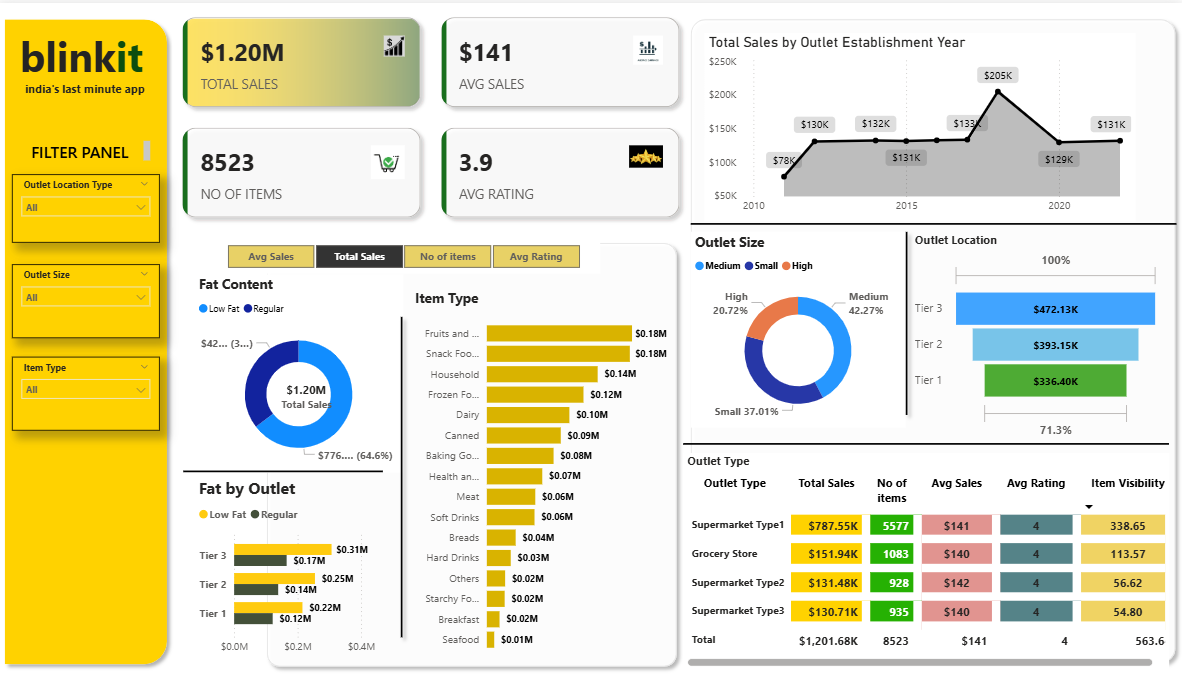

The page's visual inventory and layout, read from the dashboard file:
{"tool":"powerbi","page":{"name":"Page 1","canvas":[1400,800],"ordinal":0},"visuals":[{"type":"shape","box":[0,10.3,209.5,779.1],"z":0},{"type":"textbox","box":[22.5,25.5,163.6,81],"z":1000},{"type":"textbox","box":[22.5,87.1,163.6,30],"z":2000},{"type":"cardVisual","fields":{"Data":["BlinkIT Grocery Data.Total Sales","BlinkIT Grocery Data.Avg Sales","BlinkIT Grocery Data.No of items","BlinkIT Grocery Data.Avg Rating"]},"box":[202.6,0,621.4,270.2],"z":3000},{"type":"shape","box":[309.2,274.7,501.3,517.8],"z":4000},{"type":"donutChart","title":"Fat Content","fields":{"Y":["BlinkIT Grocery Data.Total Sales"],"Category":["BlinkIT Grocery Data.Item Fat Content"]},"box":[232.6,319.7,246.1,234.1],"z":5000},{"type":"slicer","fields":{"Values":["Metrics.Metrics"]},"box":[246.1,279.2,465.3,40.5],"z":6000},{"type":"cardVisual","fields":{"Data":["BlinkIT Grocery Data.Total Sales"]},"box":[309.2,430.7,111.1,61.5],"z":7000},{"type":"clusteredBarChart","title":"Fat by Outlet","fields":{"Y":["BlinkIT Grocery Data.Total Sales"],"Category":["BlinkIT Grocery Data.Outlet Location Type"],"Series":["BlinkIT Grocery Data.Item Fat Content"]},"box":[233.1,559.2,227.2,218.4],"z":8000},{"type":"shape","box":[219.1,534.3,235.6,37.5],"z":9000},{"type":"shape","box":[460.8,361.7,34.5,396.2],"z":10000},{"type":"barChart","title":"Item Type","fields":{"Y":["BlinkIT Grocery Data.Total Sales"],"Category":["BlinkIT Grocery Data.Item Type"]},"box":[487.8,336.2,307.7,439.8],"z":11000},{"type":"shape","box":[810.5,10.5,589.8,777.4],"z":12000},{"type":"lineChart","fields":{"Y":["BlinkIT Grocery Data.Total Sales"],"Category":["BlinkIT Grocery Data.Outlet Establishment Year"]},"box":[834.5,36,508.8,222.1],"z":13000},{"type":"shape","box":[819.5,241.6,573.3,37.5],"z":14000},{"type":"donutChart","title":"Outlet Size","fields":{"Y":["BlinkIT Grocery Data.Total Sales"],"Category":["BlinkIT Grocery Data.Outlet Size"]},"box":[819.5,270.2,253.6,231.1],"z":15000},{"type":"shape","box":[1058.1,261.2,31.5,234.1],"z":16000},{"type":"funnel","title":"Outlet Location ","fields":{"Y":["BlinkIT Grocery Data.Total Sales"],"Category":["BlinkIT Grocery Data.Outlet Location Type"]},"box":[1079.1,270.2,298.7,249.1],"z":17000},{"type":"shape","box":[810.5,501.3,573.3,37.5],"z":18000},{"type":"pivotTable","title":"Outlet Type","fields":{"Rows":["BlinkIT Grocery Data.Outlet Type"],"Values":["BlinkIT Grocery Data.Total Sales","BlinkIT Grocery Data.No of items","BlinkIT Grocery Data.Avg Sales","BlinkIT Grocery Data.Avg Rating","Sum(BlinkIT Grocery Data.Item Visibility)"]},"box":[810.1,531.2,574,256.7],"z":19000},{"type":"slicer","fields":{"Values":["BlinkIT Grocery Data.Outlet Location Type"]},"box":[17.7,202.2,174.1,81.2],"z":20000},{"type":"slicer","fields":{"Values":["BlinkIT Grocery Data.Outlet Size"]},"box":[17.7,308.4,174.1,87.1],"z":21000},{"type":"slicer","fields":{"Values":["BlinkIT Grocery Data.Item Type"]},"box":[17.7,417.6,174.1,87.1],"z":22000},{"type":"textbox","box":[17.7,157.9,168.2,33.9],"z":23000}]}

Visuals, with their boxes in screenshot pixels (x1, y1, x2, y2), scaled from the page's 1400x800 canvas onto the 1182x674 screenshot:
shape: x1=0 y1=9 x2=177 y2=665
textbox: x1=19 y1=21 x2=157 y2=90
textbox: x1=19 y1=73 x2=157 y2=99
cardVisual - BlinkIT Grocery Data.Total Sales x BlinkIT Grocery Data.Avg Sales: x1=171 y1=0 x2=696 y2=228
shape: x1=261 y1=231 x2=684 y2=668
"Fat Content" donutChart: x1=196 y1=269 x2=404 y2=467
slicer - Metrics.Metrics: x1=208 y1=235 x2=601 y2=269
cardVisual - BlinkIT Grocery Data.Total Sales: x1=261 y1=363 x2=355 y2=415
"Fat by Outlet" clusteredBarChart: x1=197 y1=471 x2=389 y2=655
shape: x1=185 y1=450 x2=384 y2=482
shape: x1=389 y1=305 x2=418 y2=639
"Item Type" barChart: x1=412 y1=283 x2=672 y2=654
shape: x1=684 y1=9 x2=1181 y2=664
lineChart - BlinkIT Grocery Data.Total Sales x BlinkIT Grocery Data.Outlet Establishment Year: x1=705 y1=30 x2=1134 y2=217
shape: x1=692 y1=204 x2=1176 y2=235
"Outlet Size" donutChart: x1=692 y1=228 x2=906 y2=422
shape: x1=893 y1=220 x2=920 y2=417
"Outlet Location " funnel: x1=911 y1=228 x2=1163 y2=438
shape: x1=684 y1=422 x2=1168 y2=454
"Outlet Type" pivotTable: x1=684 y1=448 x2=1169 y2=664
slicer - BlinkIT Grocery Data.Outlet Location Type: x1=15 y1=170 x2=162 y2=239
slicer - BlinkIT Grocery Data.Outlet Size: x1=15 y1=260 x2=162 y2=333
slicer - BlinkIT Grocery Data.Item Type: x1=15 y1=352 x2=162 y2=425
textbox: x1=15 y1=133 x2=157 y2=162
